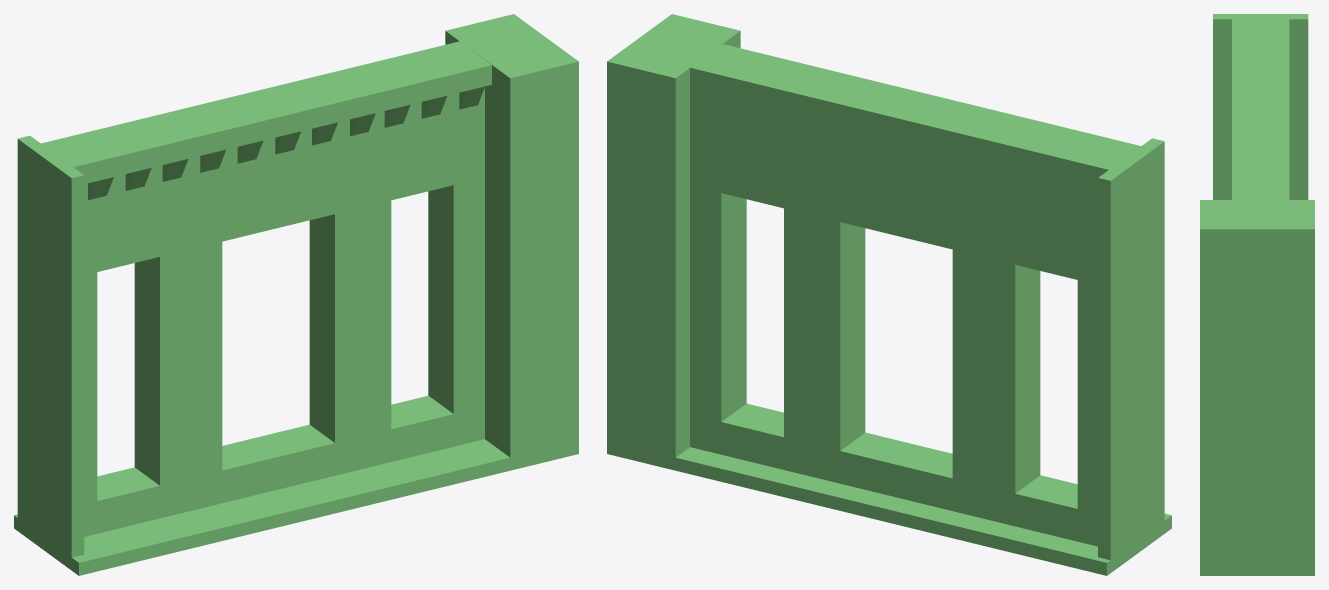
The model's file is Bld3_Wall_Mid_E.fbx.
3 views of the same model, side by side, from view 1: azimuth 30°, elevation 25°; view 2: azimuth 150°, elevation 25°; view 3: azimuth 270°, elevation 25° (orthographic). The views are drawn at different scales.
Visible parts, largest first — view 1: Bld3_Wall_Mid_E; view 2: Bld3_Wall_Mid_E; view 3: Bld3_Wall_Mid_E.
Boxes of the visible parts, <box> form: Bld3_Wall_Mid_E: <box>14,14,578,575</box>; Bld3_Wall_Mid_E: <box>607,14,1171,575</box>; Bld3_Wall_Mid_E: <box>1200,14,1314,575</box>.
Size of the model in its own units: 600 by 450 by 135.
